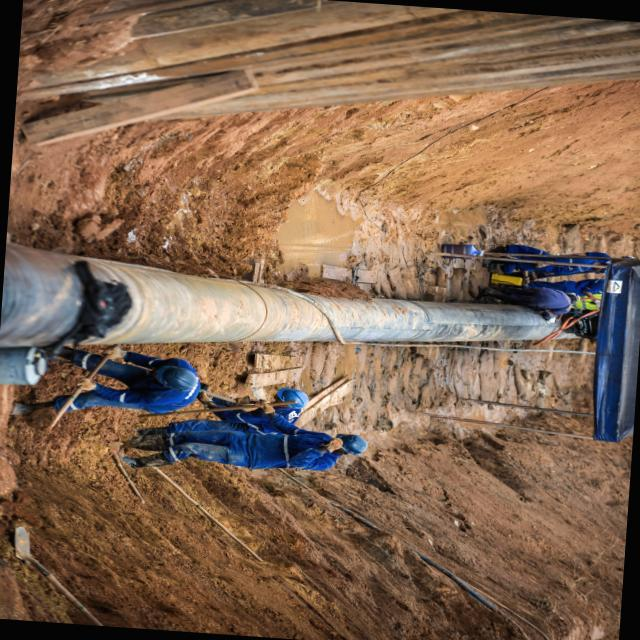gas: (0, 242, 577, 345)
